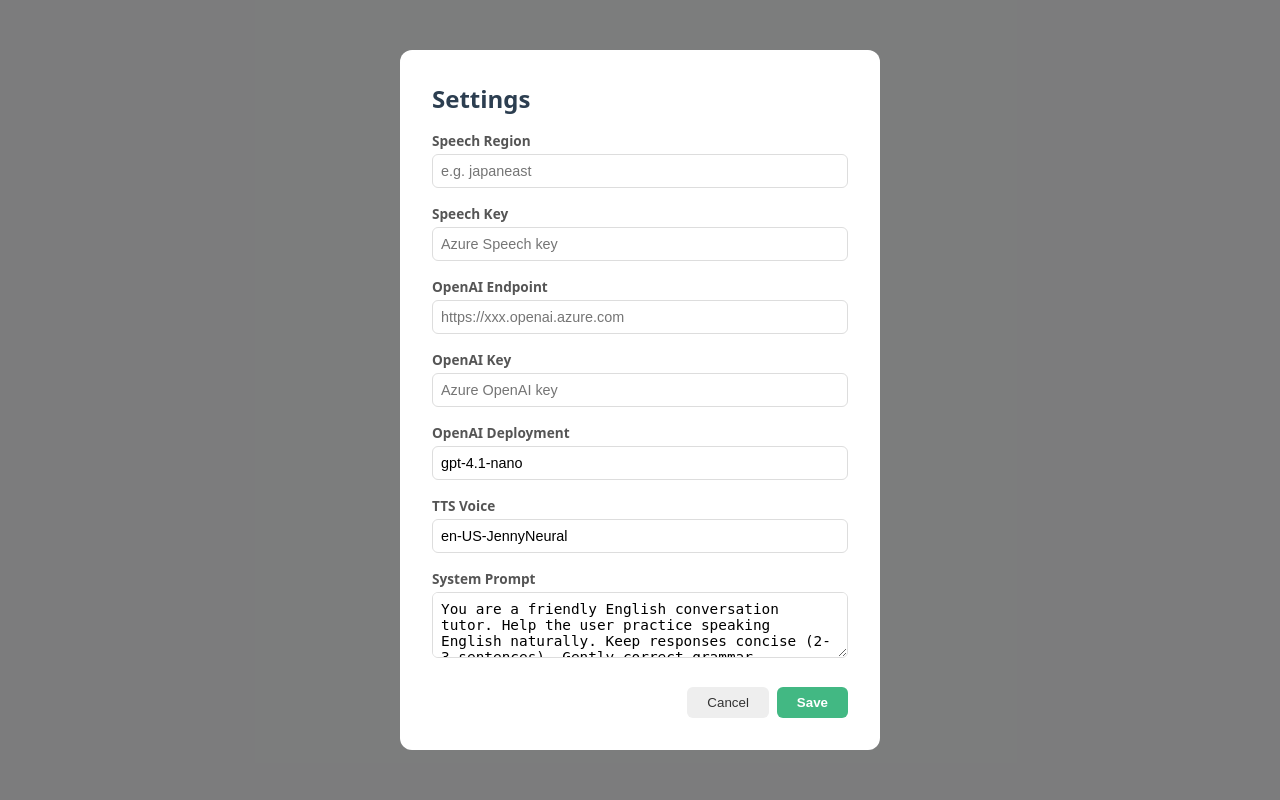
it: SettingsModal › SM4: shows validation errors when required fields are empty
The width and height of the screenshot is (1280, 800).
Click the button "Save": (812, 702) [777,687,848,718]
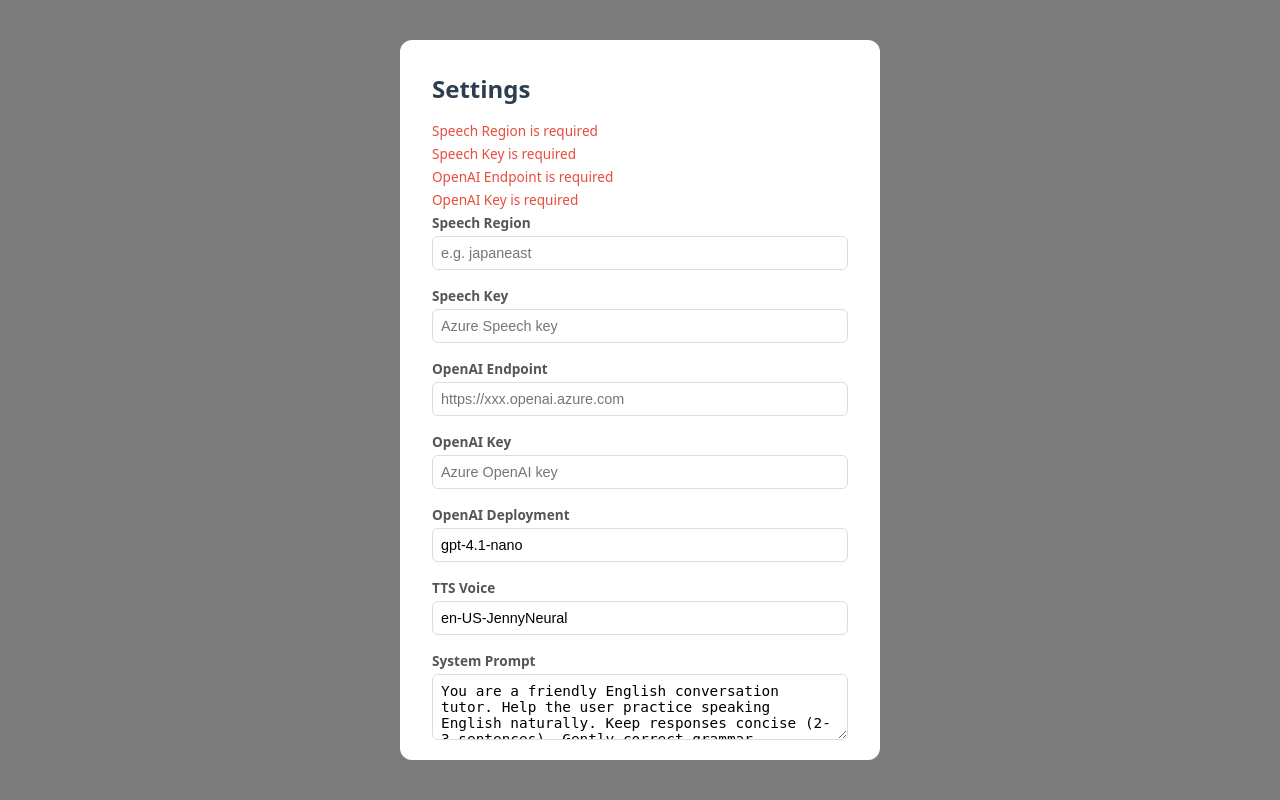
Check: the element with class "errors" is shown, box [432,121,613,209]
Check: the text "required" is shown, box [432,121,598,140]
